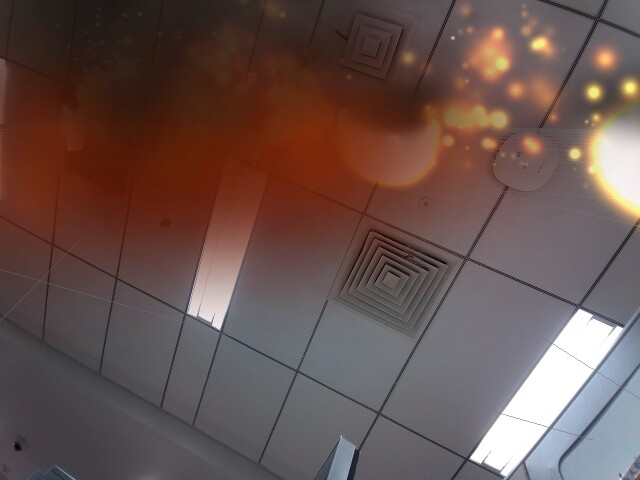fire: (340, 90, 451, 195), (586, 92, 638, 227)
